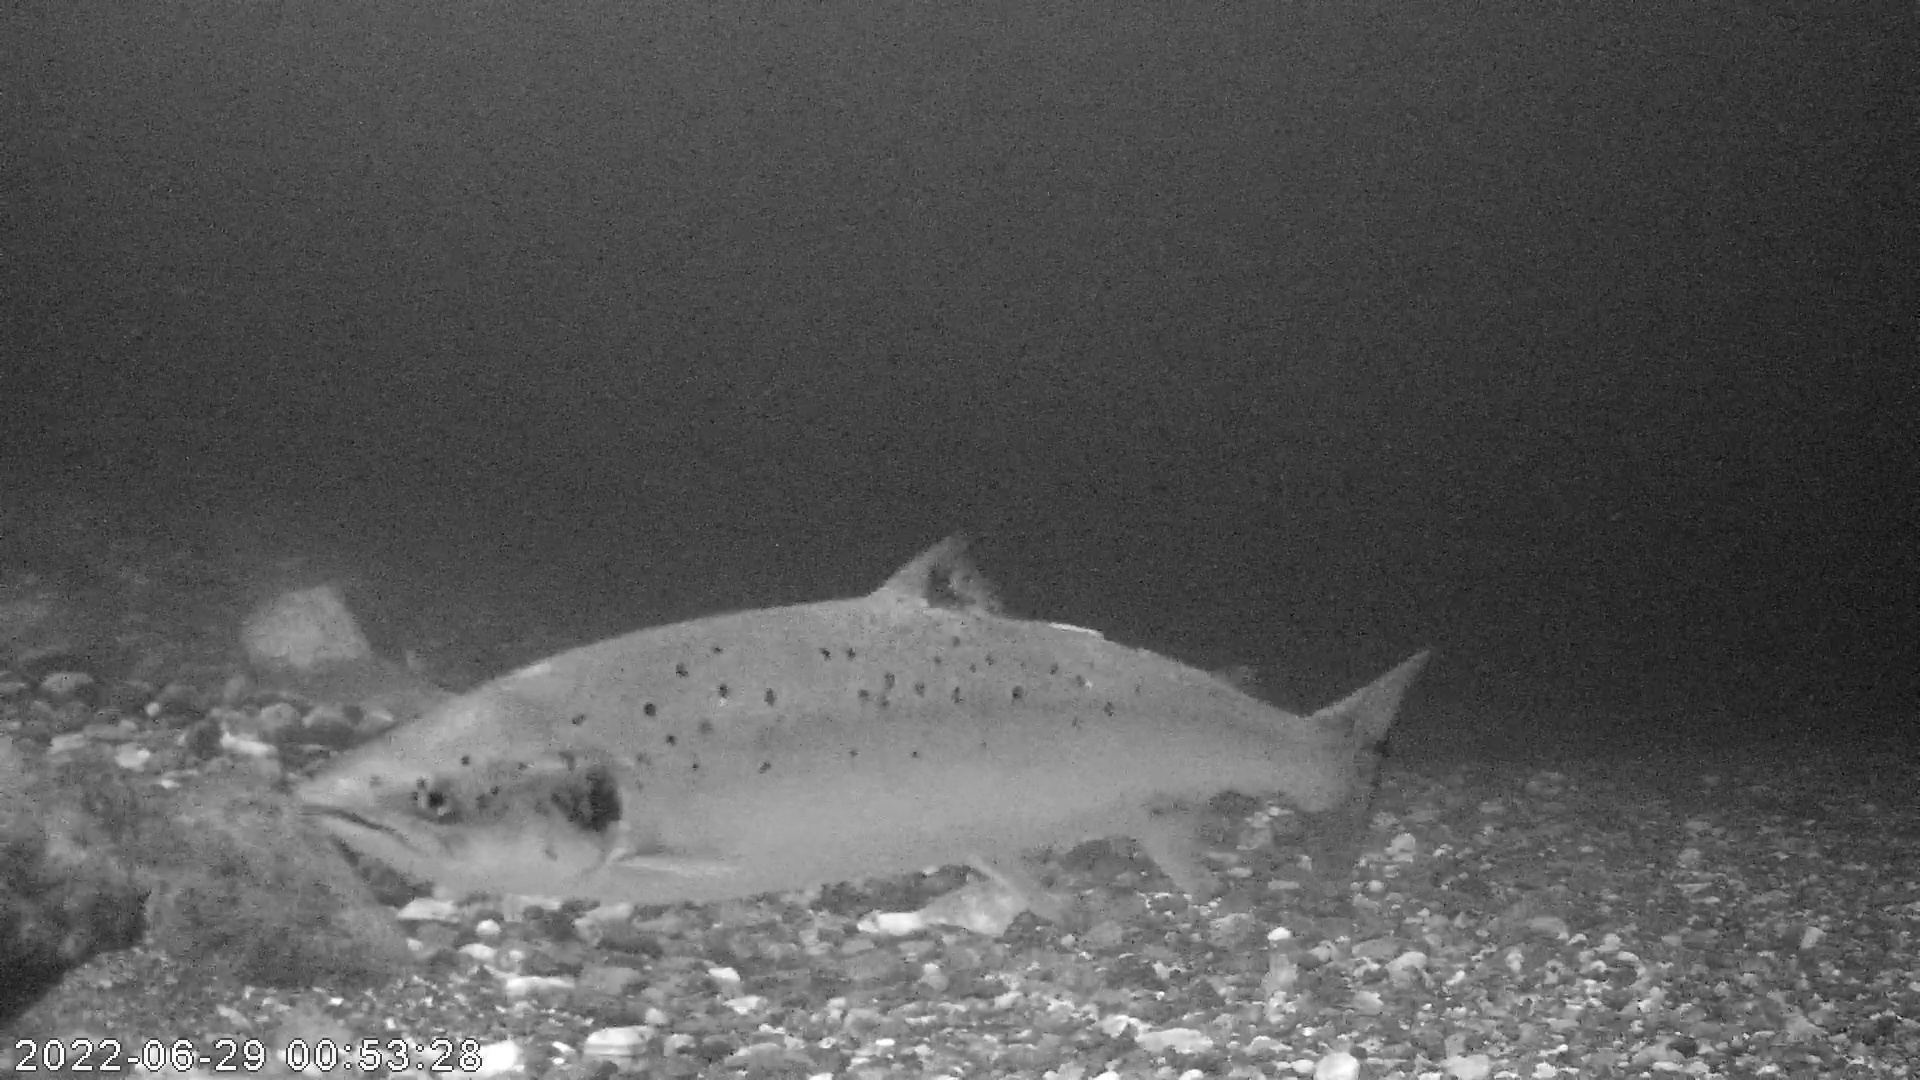salmon: (287, 522, 1435, 916)
